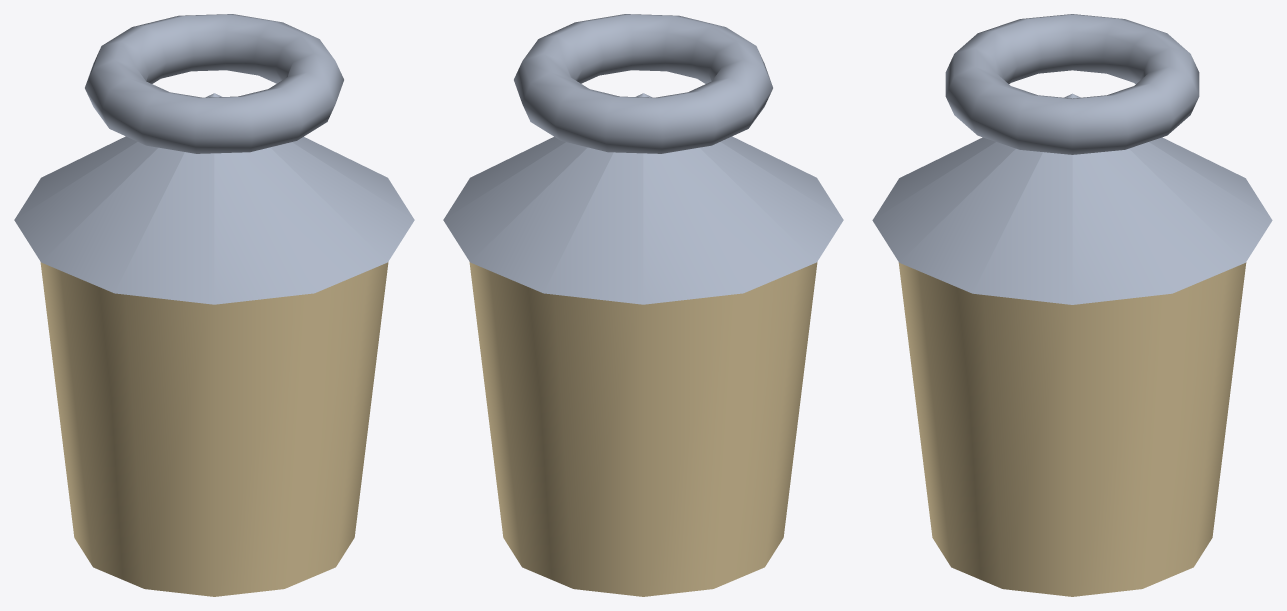
File: star_lantern.glb
3 views of the same model, side by side, from view 1: azimuth 30°, elevation 25°; view 2: azimuth 150°, elevation 25°; view 3: azimuth 270°, elevation 25° (orthographic).
Visible parts, largest first — view 1: Star Lantern; view 2: Star Lantern; view 3: Star Lantern.
Boxes of the visible parts, x1,y1,x2,y2 form: Star Lantern: (14,14,414,596); Star Lantern: (443,14,843,596); Star Lantern: (872,14,1272,596).
Size of the model in its own units: 0.2 by 0.265 by 0.2.
